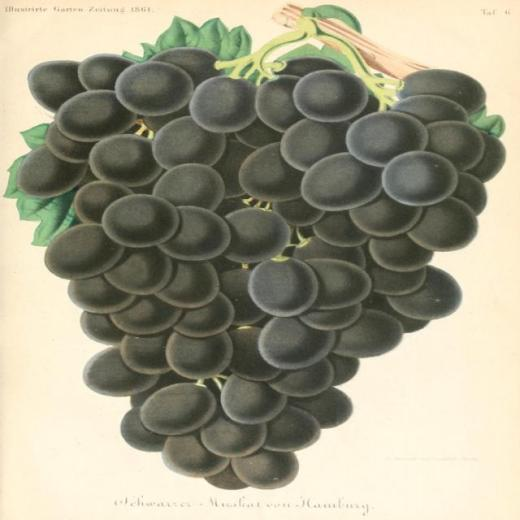Orange: (17, 46, 505, 491)
